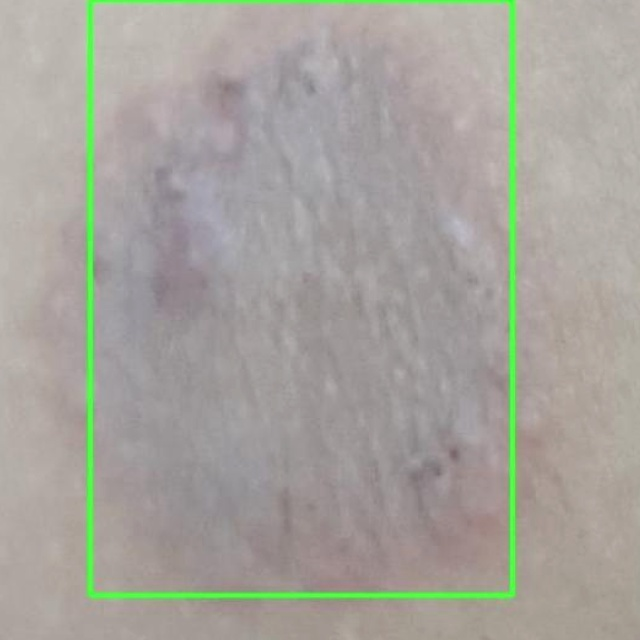Eczema: (90, 0, 513, 596)
